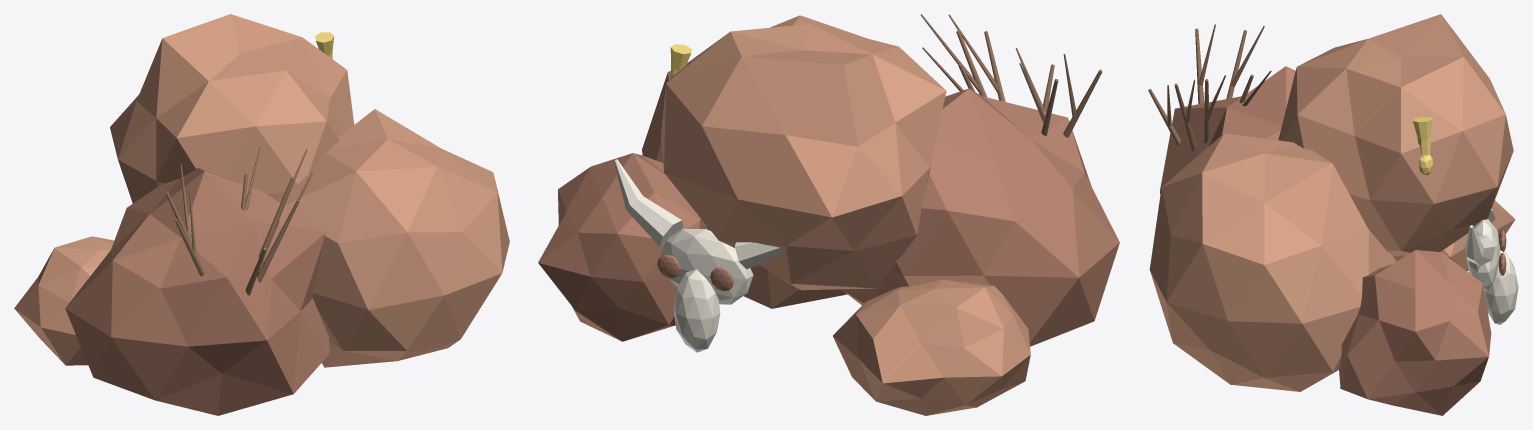
The model's file is Kit_LM_BoulderPile.fbx.
The picture shows the model from 3 angles, left to right: view 1: azimuth 30°, elevation 25°; view 2: azimuth 150°, elevation 25°; view 3: azimuth 270°, elevation 25°; orthographic projection. The views are drawn at different scales.
Visible parts, largest first — view 1: Kit_LM_BoulderPile; view 2: Kit_LM_BoulderPile; view 3: Kit_LM_BoulderPile.
Part boxes in pixels (bbox=[...]): Kit_LM_BoulderPile: bbox=[14, 14, 509, 415]; Kit_LM_BoulderPile: bbox=[538, 14, 1119, 415]; Kit_LM_BoulderPile: bbox=[1148, 14, 1518, 415].
Bounding box in the file's own units: 3.4 × 2.2 × 2.57.
